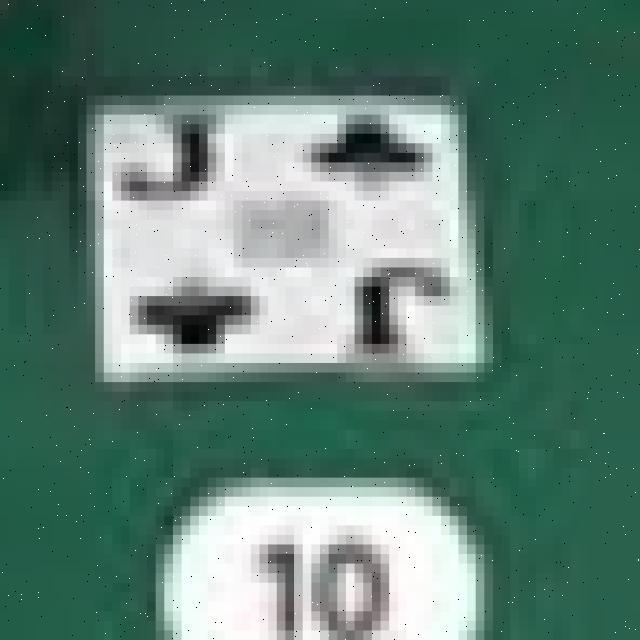Card-J: (104, 97, 478, 383)
